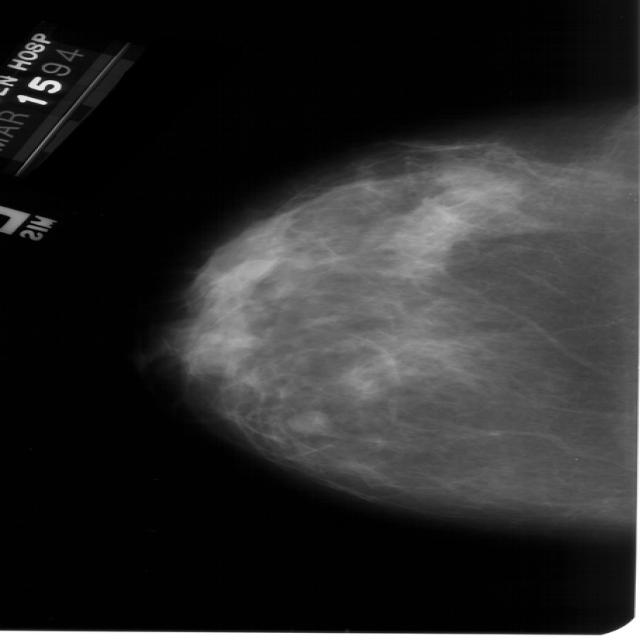tumour: (282, 409, 328, 434)
